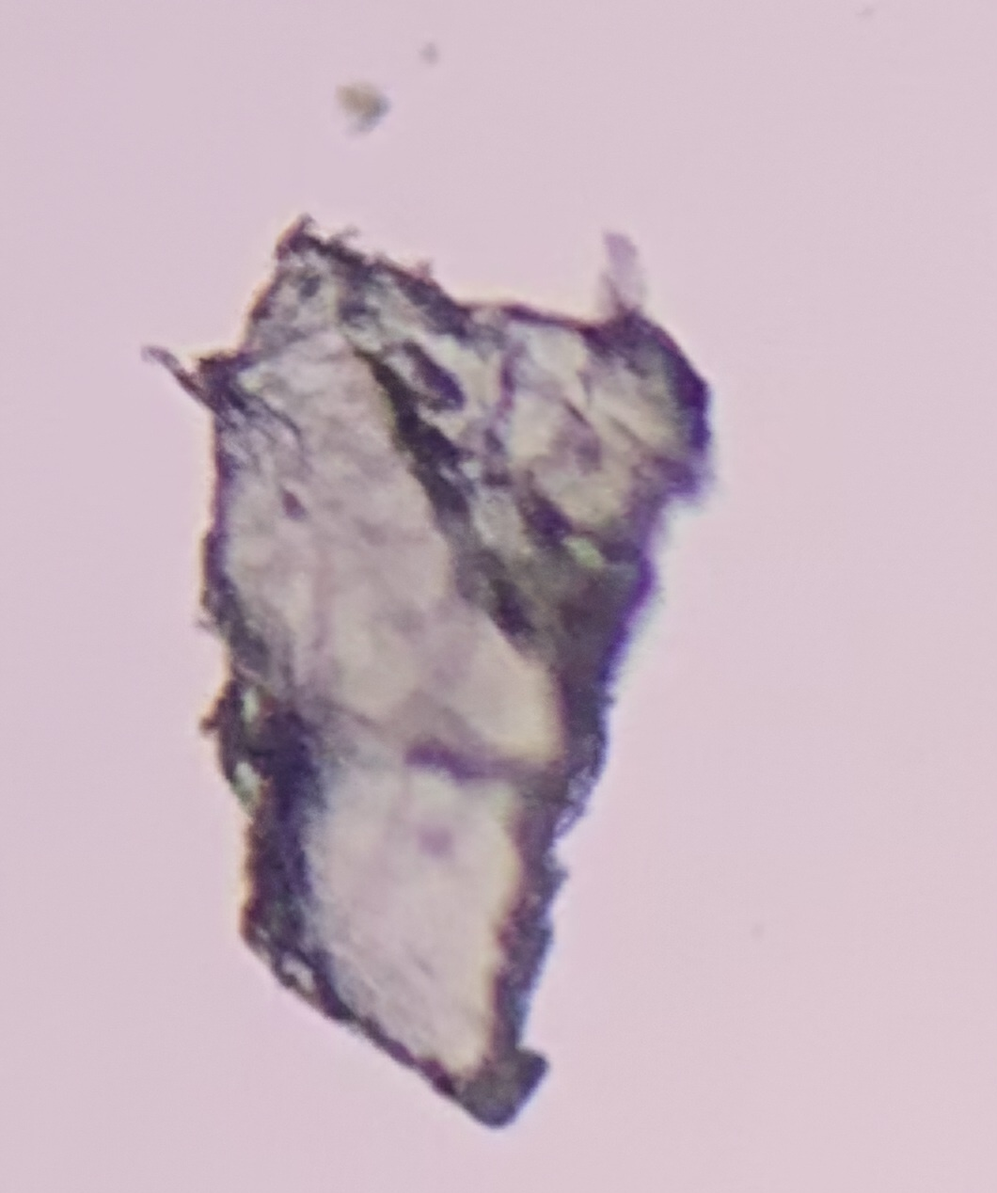microplastic: (141, 218, 714, 1126), (332, 83, 389, 135)
